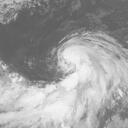cyclone: (57, 29, 110, 86)
